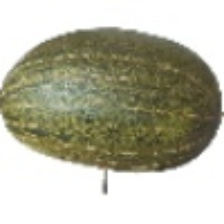honeydew: (0, 41, 185, 224)
